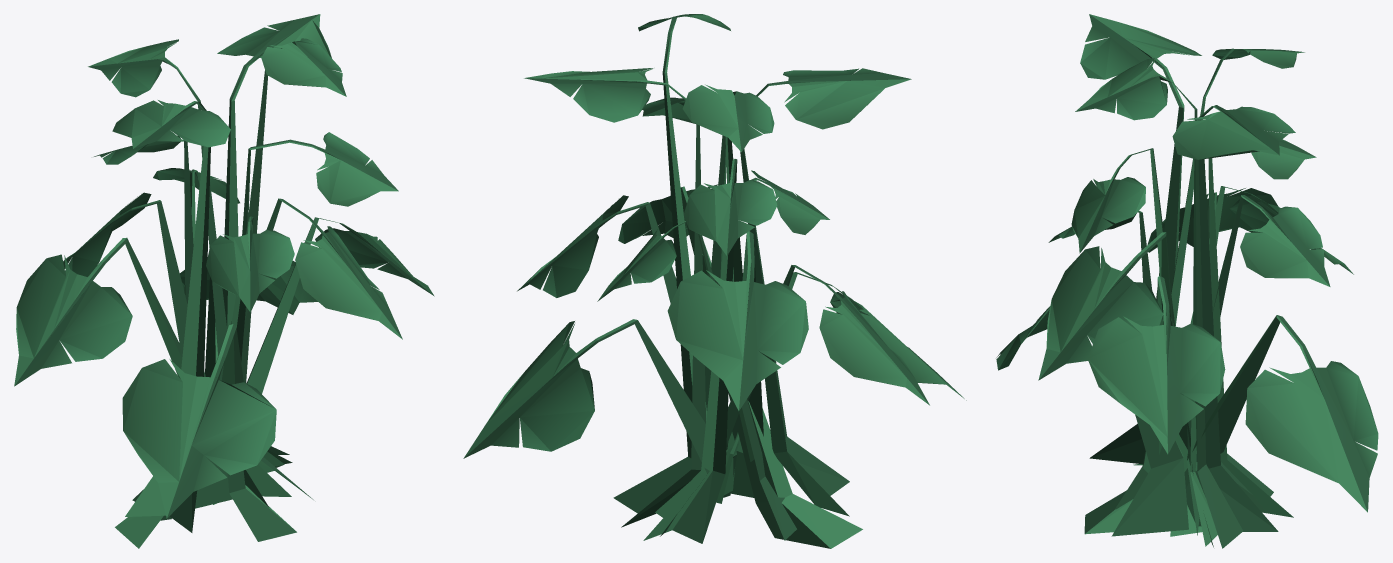
The model's file is leaf-heart.glb.
3 renders of one model, left to right at view 1: azimuth 30°, elevation 25°; view 2: azimuth 150°, elevation 25°; view 3: azimuth 270°, elevation 25°, orthographic. The views are drawn at different scales.
Parts seen in each view (by area): view 1: plant; view 2: plant; view 3: plant.
Boxes of the visible parts, x1,y1,x2,y2 form: plant: (14,14,434,548); plant: (463,14,966,548); plant: (996,14,1378,548).
Bounding box in the file's own units: 6.01 × 6.53 × 4.7.
